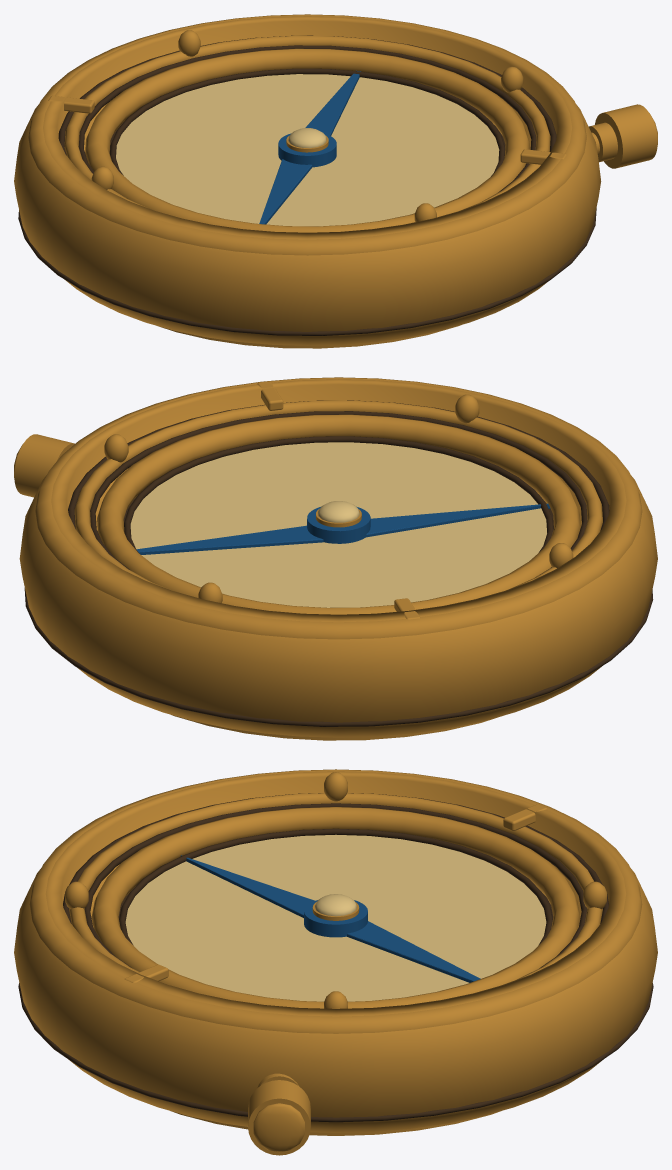
3 renders of one model, top to bottom at view 1: azimuth 30°, elevation 25°; view 2: azimuth 150°, elevation 25°; view 3: azimuth 270°, elevation 25°, orthographic. The views are drawn at different scales.
Visible parts, largest first — view 1: chapter-1; view 2: chapter-1; view 3: chapter-1.
Part boxes in pixels (bbox=[...]): chapter-1: bbox=[14, 14, 657, 348]; chapter-1: bbox=[14, 377, 657, 740]; chapter-1: bbox=[14, 769, 657, 1155].
Bounding box in the file's own units: 2 × 0.4572 × 1.78.
